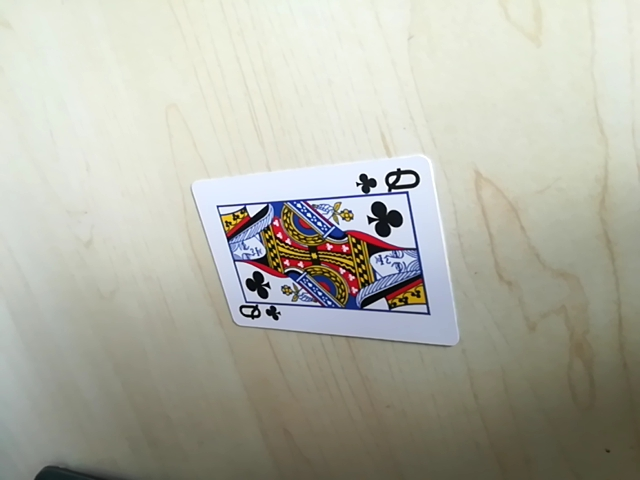mh q: (360, 163, 428, 195), (230, 301, 280, 327)
